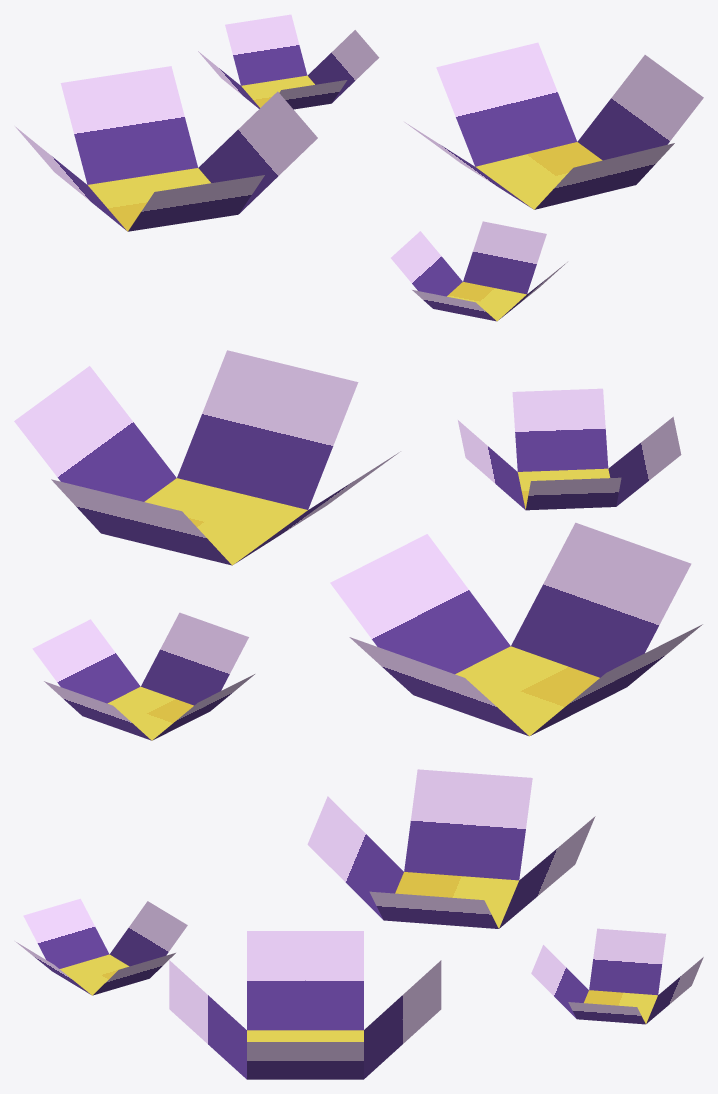
File: cvety_nto_4.gltf
3 renders of one model, top to bottom at view 1: azimuth 30°, elevation 25°; view 2: azimuth 150°, elevation 25°; view 3: azimuth 270°, elevation 25°, orthographic. The views are drawn at different scales.
Parts seen in each view (by area): view 1: C4; view 2: C4; view 3: C4.
Part boxes in pixels (<box>): C4: <box>15,14,703,321</box>; C4: <box>14,350,702,740</box>; C4: <box>15,769,703,1079</box>.
Size of the model in its own units: 0.552 by 0.0725 by 0.5901.
1 material, 1 textured.
